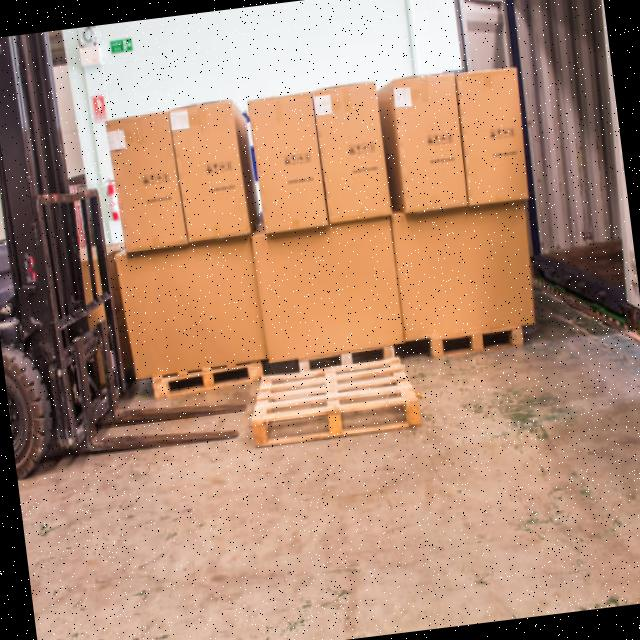Wooden-Pallets: (251, 357, 429, 454), (146, 350, 261, 417), (432, 316, 539, 377)
